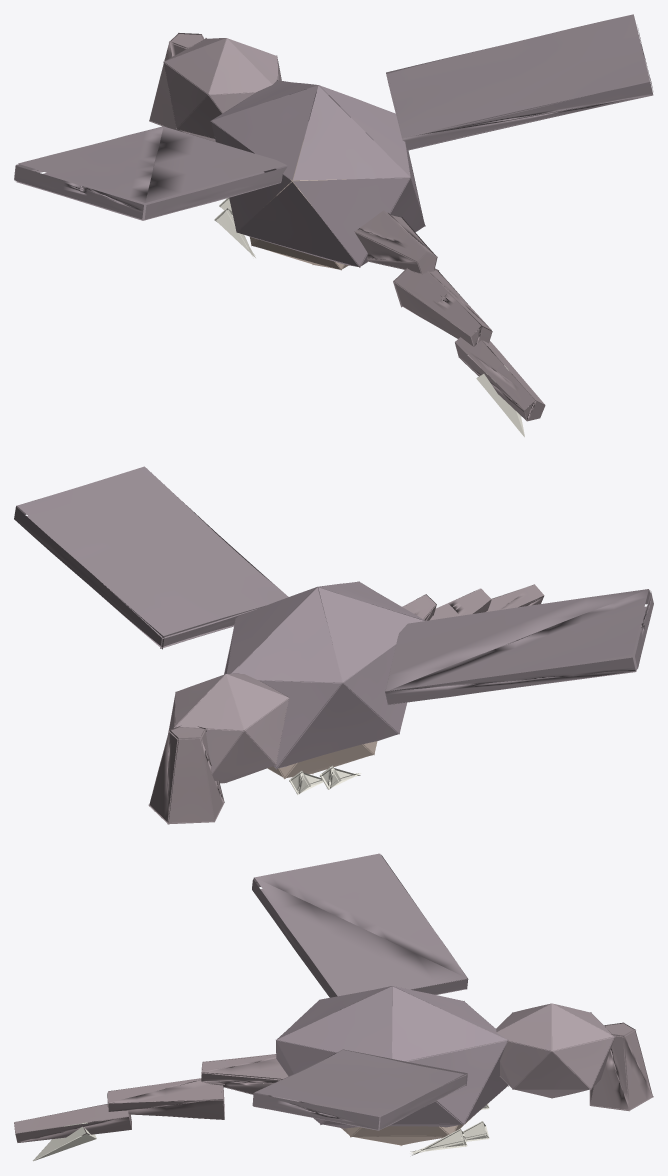
The model's file is wyvern.glb.
The picture shows the model from 3 angles, top to bottom: view 1: azimuth 30°, elevation 25°; view 2: azimuth 150°, elevation 25°; view 3: azimuth 270°, elevation 25°; orthographic projection. The views are drawn at different scales.
Visible parts, largest first — view 1: WyvernBody; view 2: WyvernBody; view 3: WyvernBody.
Part boxes in pixels (bbox=[...]): WyvernBody: bbox=[14, 14, 653, 437]; WyvernBody: bbox=[14, 466, 653, 824]; WyvernBody: bbox=[14, 853, 653, 1161].
Size of the model in its own units: 2.83 by 0.8808 by 2.89.
